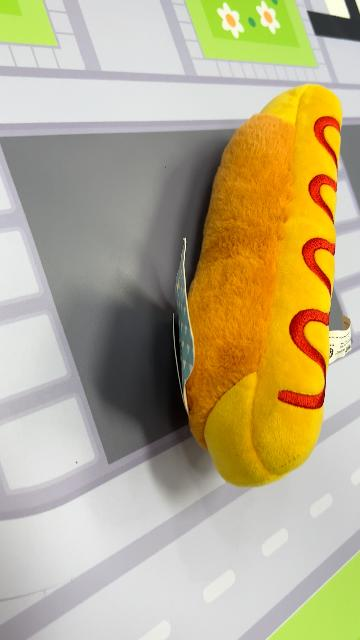hotdog: (179, 82, 345, 490)
